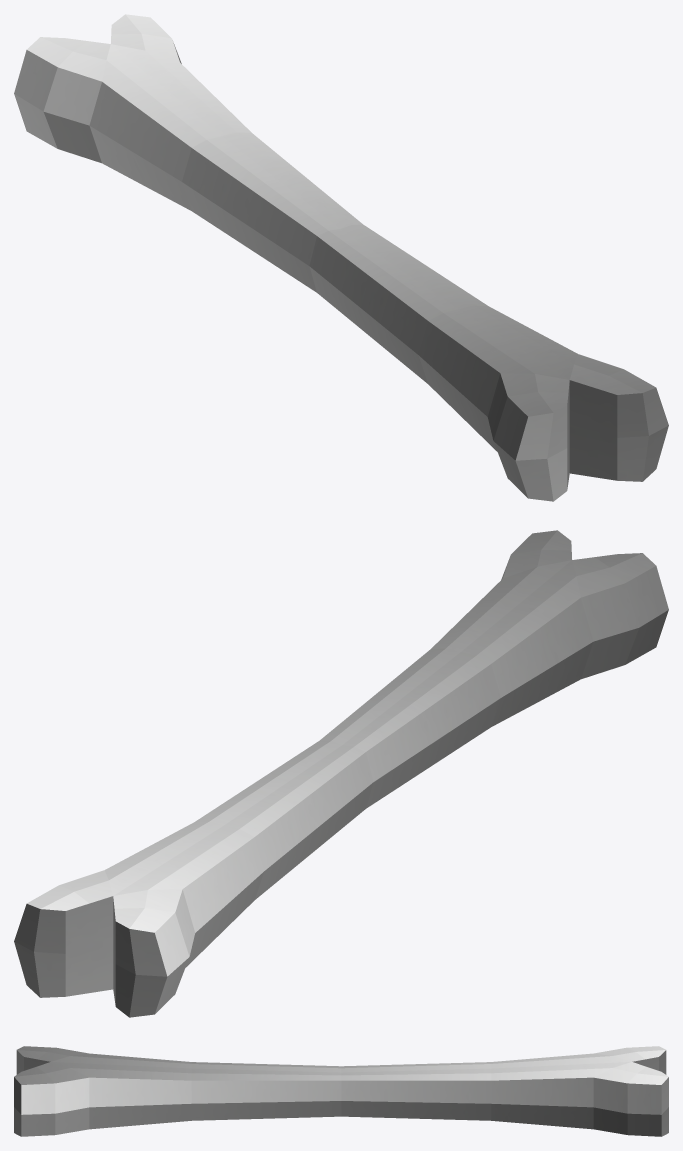
Rendered from Bone_1.fbx.
3 renders of one model, top to bottom at view 1: azimuth 30°, elevation 25°; view 2: azimuth 150°, elevation 25°; view 3: azimuth 270°, elevation 25°, orthographic. The views are drawn at different scales.
Parts seen in each view (by area): view 1: Bone 1; view 2: Bone 1; view 3: Bone 1.
Boxes of the visible parts, bbox=[...] form: Bone 1: bbox=[14, 14, 668, 501]; Bone 1: bbox=[14, 530, 668, 1017]; Bone 1: bbox=[14, 1046, 668, 1136].
Size of the model in its own units: 7.3 by 4.3 by 43.2.
